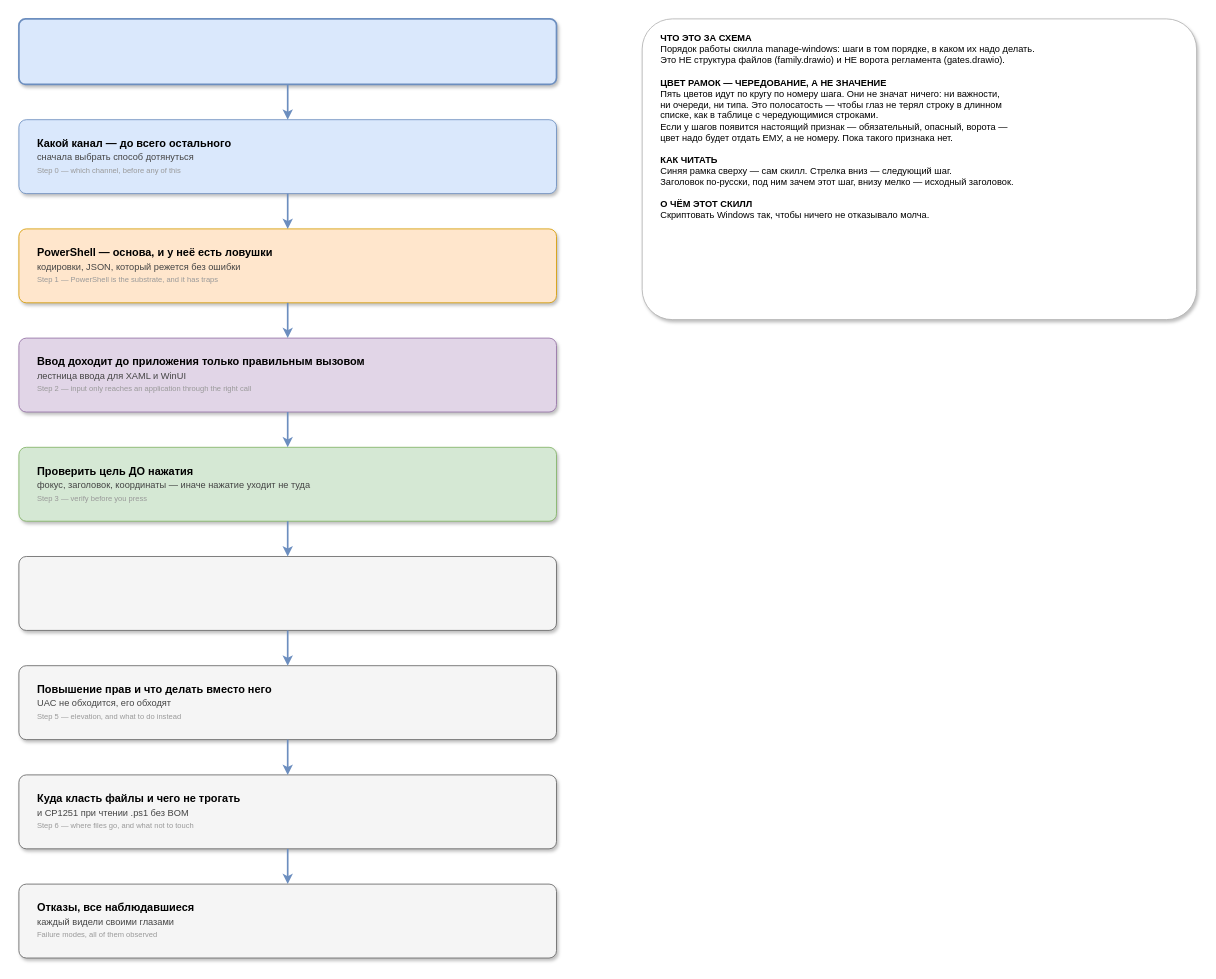
Some shapes in this 1216 by 979 pixel diagram are drawn without their labels. The shapes that lost their labels are listed below. From the top down, each one's centre as x and y in pixels, then its label:
At point 288,52: "Работа с Windows".
At point 288,594: "Мерить, а не предполагать окно, DPI, масштаб Step 4 — measure, do not assume".
